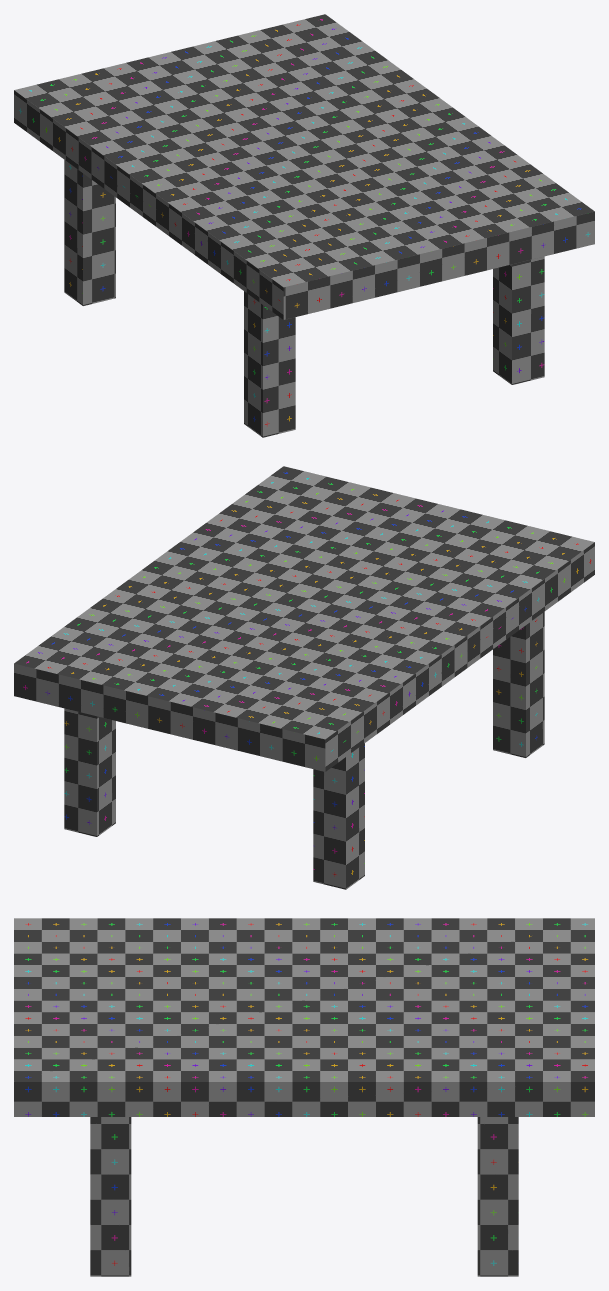
Rendered from Table01.glb.
The picture shows the model from 3 angles, top to bottom: view 1: azimuth 30°, elevation 25°; view 2: azimuth 150°, elevation 25°; view 3: azimuth 270°, elevation 25°; orthographic projection. The views are drawn at different scales.
Visible parts, largest first — view 1: Cube; view 2: Cube; view 3: Cube.
Boxes of the visible parts, <box> form: Cube: <box>14,14,594,437</box>; Cube: <box>14,466,594,889</box>; Cube: <box>14,918,594,1276</box>.
Size of the model in its own units: 4 by 2.31 by 6.
Materials: 1 (1 with a texture image).
